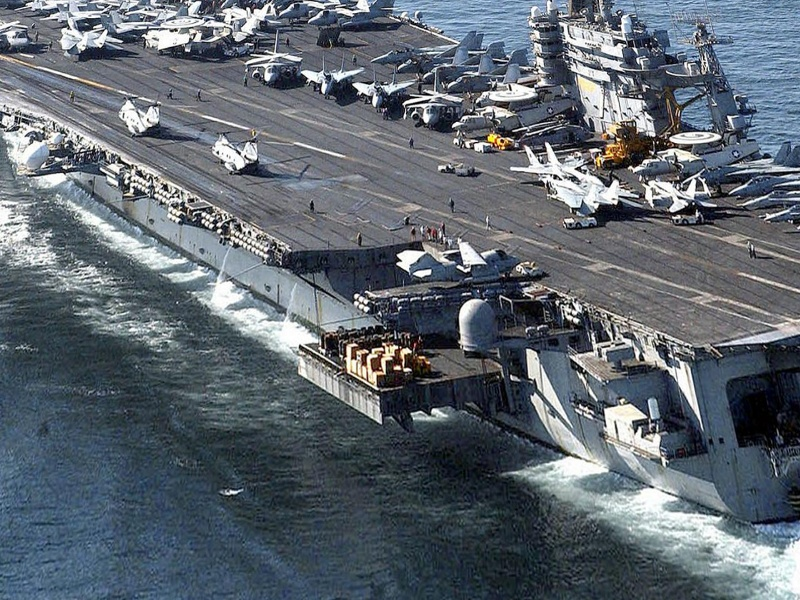carrier: (14, 4, 795, 518)
